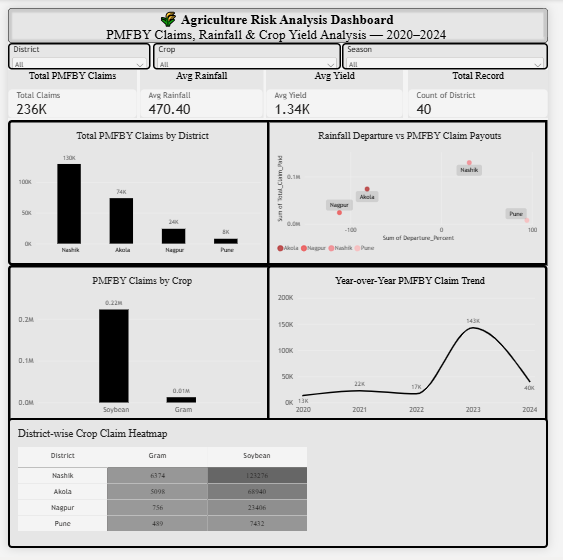

The page's visual inventory and layout, read from the dashboard file:
{"tool":"powerbi","page":{"name":"Page 1","canvas":[1080,1080],"ordinal":0},"visuals":[{"type":"cardVisual","title":"Total PMFBY Claims","fields":{"Data":["Sum(Final_Data.Total_Claim_Paid)"]},"box":[0,124,258,96],"z":0},{"type":"cardVisual","title":"Avg Rainfall","fields":{"Data":["Avg(Final_Data.Actual_Rainfall)"]},"box":[263.6,123.3,246.6,95.7],"z":1000},{"type":"cardVisual","title":"Avg Yield","fields":{"Data":["Avg(Final_Data.Yield)"]},"box":[516.6,123.3,274.3,95.7],"z":2000},{"type":"cardVisual","title":"Total Record","fields":{"Data":["CountNonNull(Final_Data.District)"]},"box":[799.4,123.3,280.6,95.7],"z":3000},{"type":"clusteredColumnChart","title":"Total PMFBY Claims by District","fields":{"Category":["Final_Data.District"],"Y":["Sum(Final_Data.Total_Claim_Paid)"]},"box":[0,223.2,527.2,291.3],"z":4000},{"type":"scatterChart","title":"Rainfall Departure vs PMFBY Claim Payouts","fields":{"X":["Sum(Final_Data.Departure_Percent)"],"Y":["Sum(Final_Data.Total_Claim_Paid)"],"Series":["Final_Data.District"]},"box":[518.7,223.2,561.3,291.3],"z":5000},{"type":"clusteredColumnChart","title":"PMFBY Claims by Crop","fields":{"Category":["Final_Data.Crop"],"Y":["Sum(Final_Data.Total_Claim_Paid)"]},"box":[0,514.5,527.2,321],"z":6000},{"type":"lineChart","title":"Year-over-Year PMFBY Claim Trend","fields":{"Category":["Final_Data.Year"],"Y":["Sum(Final_Data.Total_Claim_Paid)"]},"box":[518.7,514.5,561.3,321],"z":7000},{"type":"slicer","fields":{"Values":["Final_Data.District"]},"box":[0,70.2,284.9,53.1],"z":8000},{"type":"slicer","fields":{"Values":["Final_Data.Crop"]},"box":[289.1,70.2,376.3,53.1],"z":9000},{"type":"slicer","fields":{"Values":["Final_Data.Season"]},"box":[667.6,70.2,412.4,53.1],"z":10000},{"type":"pivotTable","title":"District-wise Crop Claim Heatmap","fields":{"Rows":["Final_Data.District"],"Columns":["Final_Data.Crop"],"Values":["Sum(Final_Data.Total_Claim_Paid)"]},"box":[0,820,1080,260],"z":11000},{"type":"textbox","box":[0,0,1080,70],"z":12000}]}

Visuals, with their boxes in screenshot pixels (x1, y1, x2, y2), scaled from the page's 1080x1080 canvas onto the 563x560 screenshot:
"Total PMFBY Claims" cardVisual: crop(0, 64, 134, 114)
"Avg Rainfall" cardVisual: crop(137, 64, 266, 114)
"Avg Yield" cardVisual: crop(269, 64, 412, 114)
"Total Record" cardVisual: crop(417, 64, 562, 114)
"Total PMFBY Claims by District" clusteredColumnChart: crop(0, 116, 275, 267)
"Rainfall Departure vs PMFBY Claim Payouts" scatterChart: crop(270, 116, 562, 267)
"PMFBY Claims by Crop" clusteredColumnChart: crop(0, 267, 275, 433)
"Year-over-Year PMFBY Claim Trend" lineChart: crop(270, 267, 562, 433)
slicer - Final_Data.District: crop(0, 36, 149, 64)
slicer - Final_Data.Crop: crop(151, 36, 347, 64)
slicer - Final_Data.Season: crop(348, 36, 562, 64)
"District-wise Crop Claim Heatmap" pivotTable: crop(0, 425, 562, 559)
textbox: crop(0, 0, 562, 36)
